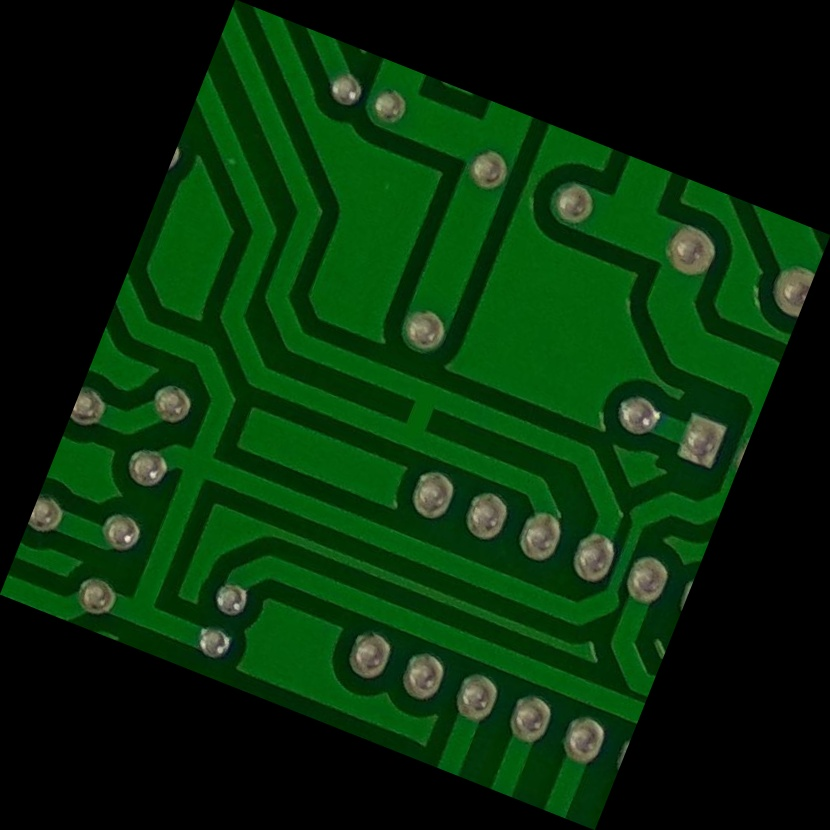short: (366, 368, 465, 463)
